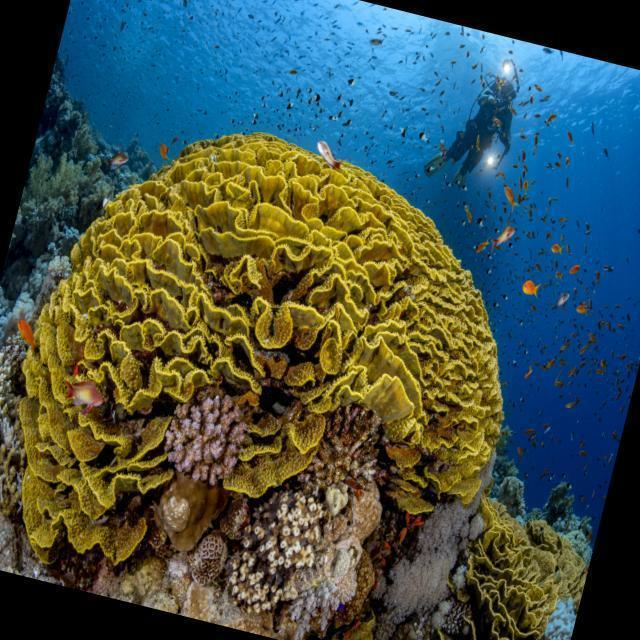Healthy Coral: (0, 90, 545, 640), (437, 485, 594, 640)
